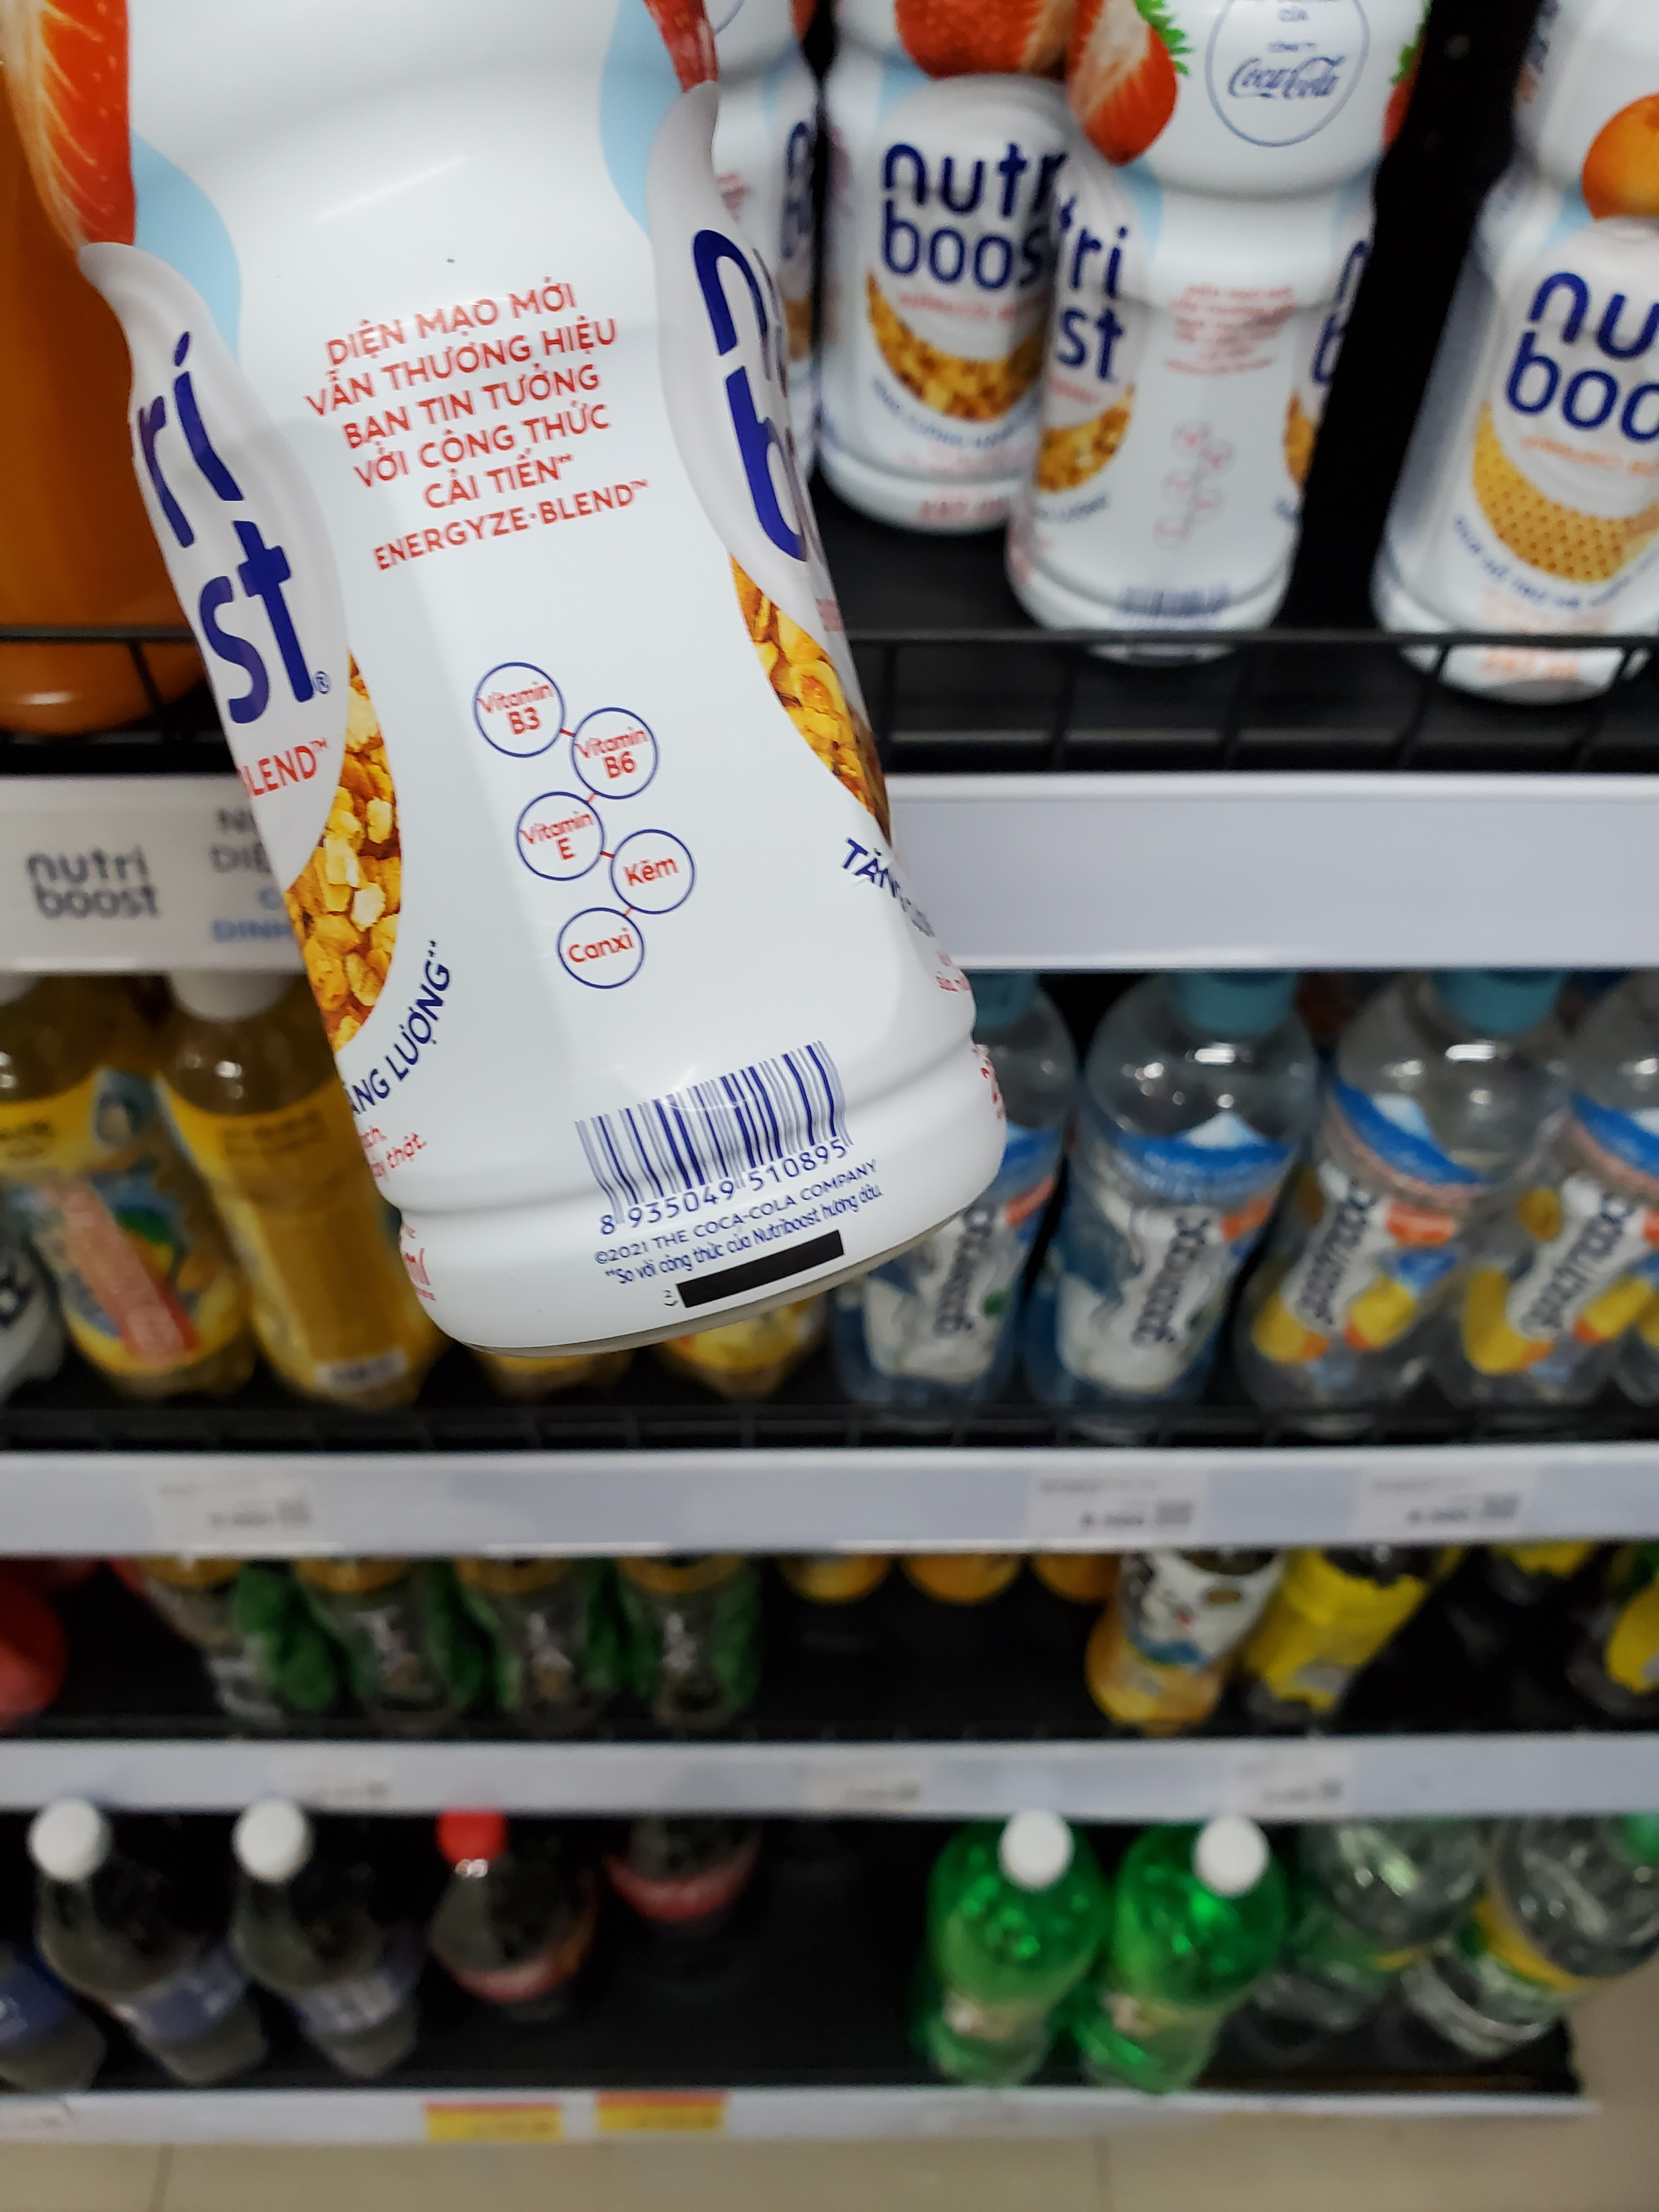barcode: (547, 1028, 878, 1238)
